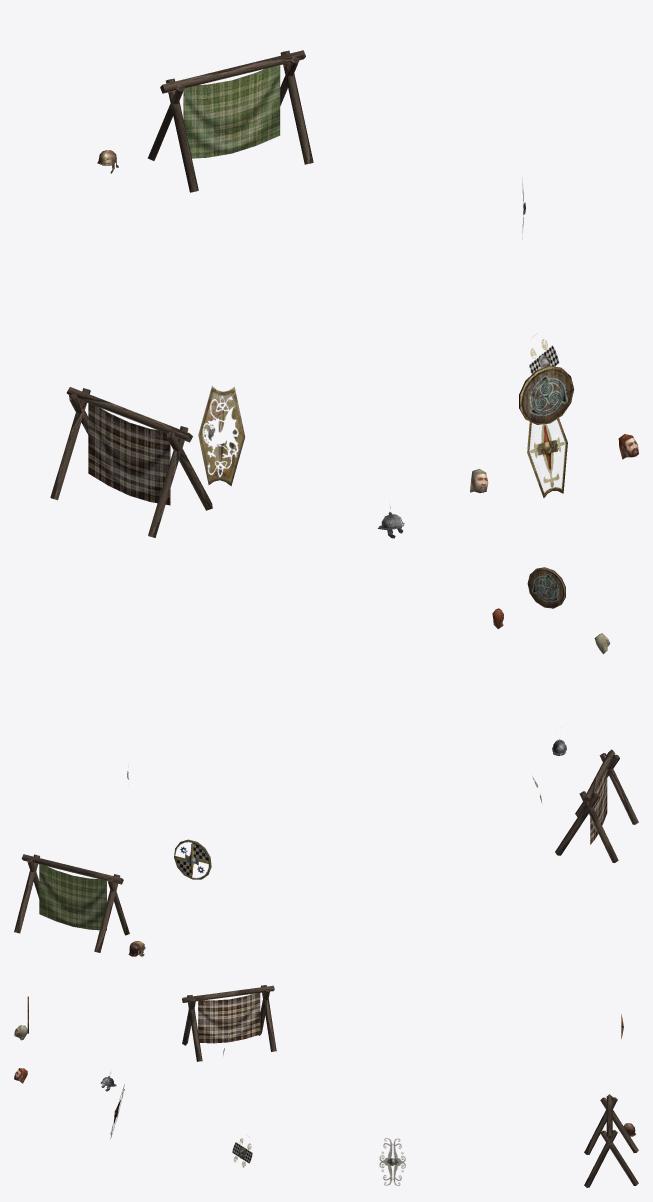
The model's file is celt_cc_props_new.glb.
The picture shows the model from 3 angles, top to bottom: view 1: azimuth 30°, elevation 25°; view 2: azimuth 150°, elevation 25°; view 3: azimuth 270°, elevation 25°; orthographic projection. The views are drawn at different scales.
Parts seen in each view (by area): view 1: celt_port_agen01-Pivot; view 2: celt_port_agen01-Pivot; view 3: celt_port_agen01-Pivot.
Boxes of the visible parts, x1,y1,x2,y2 form: celt_port_agen01-Pivot: (50, 50, 638, 538); celt_port_agen01-Pivot: (14, 567, 638, 956); celt_port_agen01-Pivot: (14, 985, 638, 1187).
Size of the model in its own units: 18.54 by 6.19 by 29.05.
Materials: 1 (1 with a texture image).
